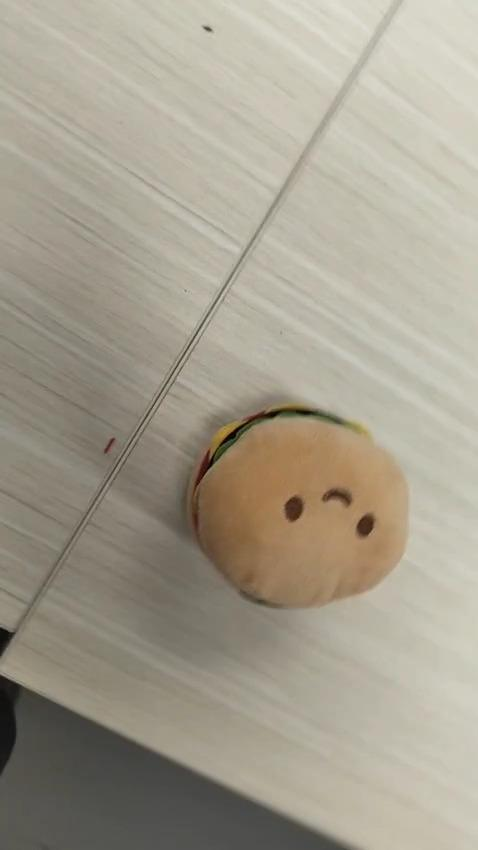hamburger: (190, 398, 415, 614)
